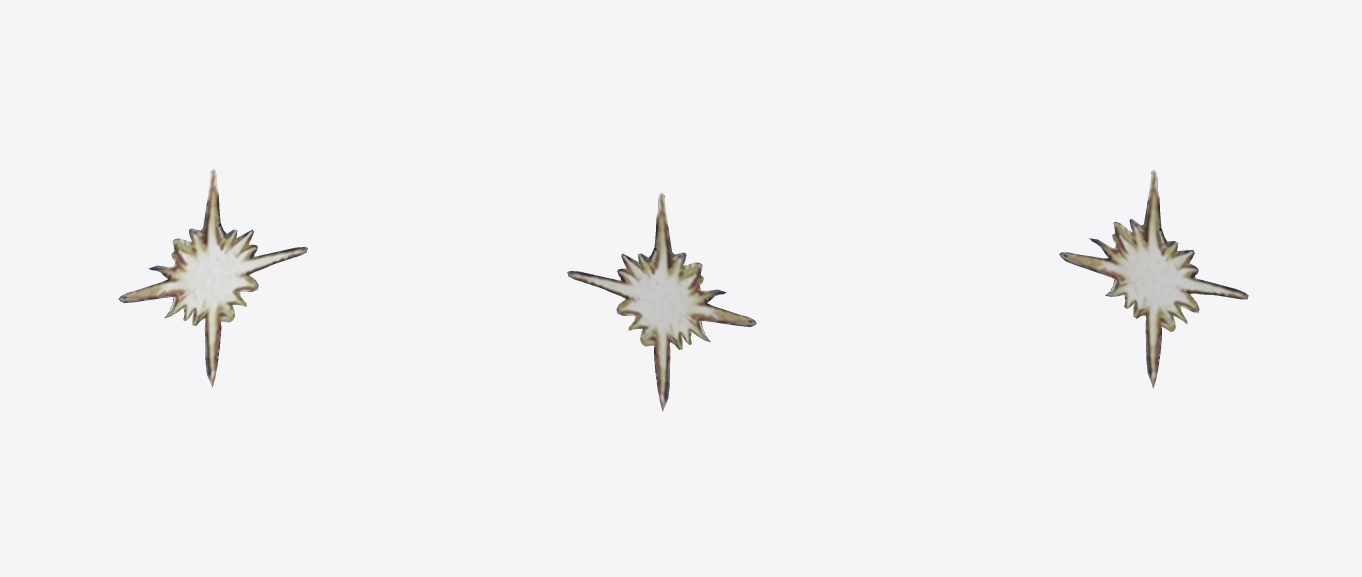
Rendered from star.glb.
3 renders of one model, left to right at view 1: azimuth 30°, elevation 25°; view 2: azimuth 150°, elevation 25°; view 3: azimuth 330°, elevation 25°, orthographic.
Parts seen in each view (by area): view 1: star; view 2: star; view 3: star.
Boxes of the visible parts, x1,y1,x2,y2 form: star: [118, 168, 307, 387]; star: [567, 192, 756, 411]; star: [1059, 169, 1248, 388].
Size of the model in its own units: 0.1023 by 0.1023 by 0.00682.
Materials: 2 (1 with a texture image).
